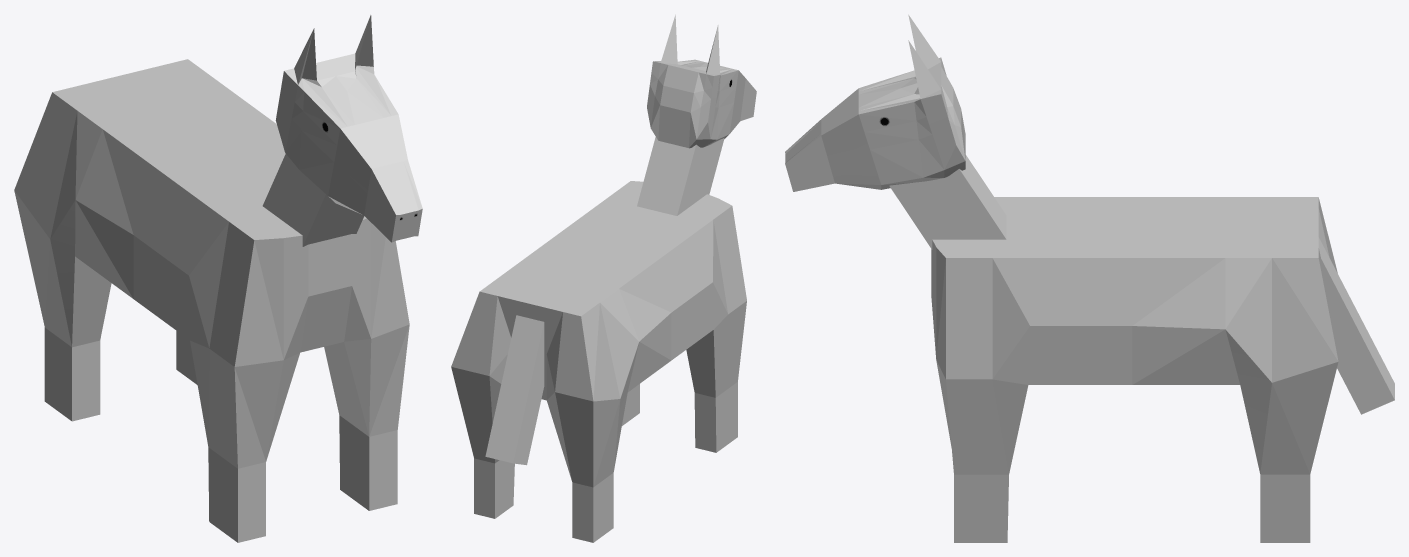
The model's file is uma.obj.
3 renders of one model, left to right at view 1: azimuth 30°, elevation 25°; view 2: azimuth 150°, elevation 25°; view 3: azimuth 270°, elevation 25°, orthographic. The views are drawn at different scales.
Visible parts, largest first — view 1: 立方体.001; view 2: 立方体.001; view 3: 立方体.001.
Boxes of the visible parts, left/top/right/bottom form: 立方体.001: left=14, top=15, right=422, bottom=542; 立方体.001: left=451, top=14, right=756, bottom=542; 立方体.001: left=785, top=14, right=1394, bottom=542.
Bounding box in the file's own units: 0.4057 × 1.06 × 1.22.
